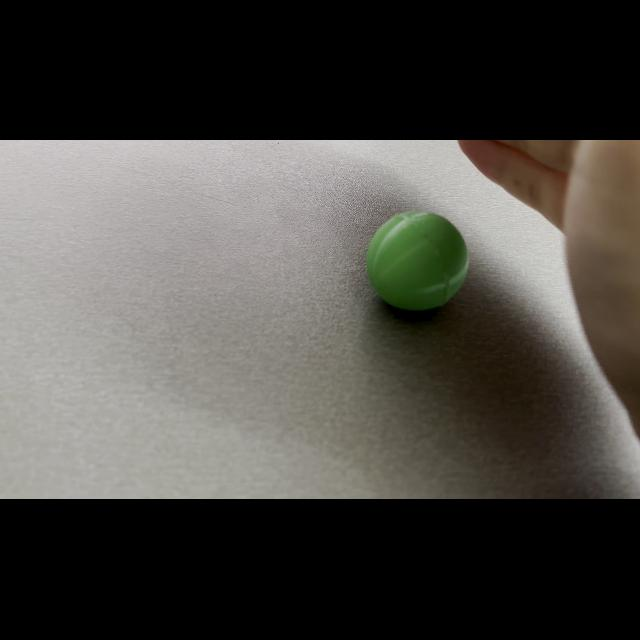objects: (362, 204, 474, 316)
